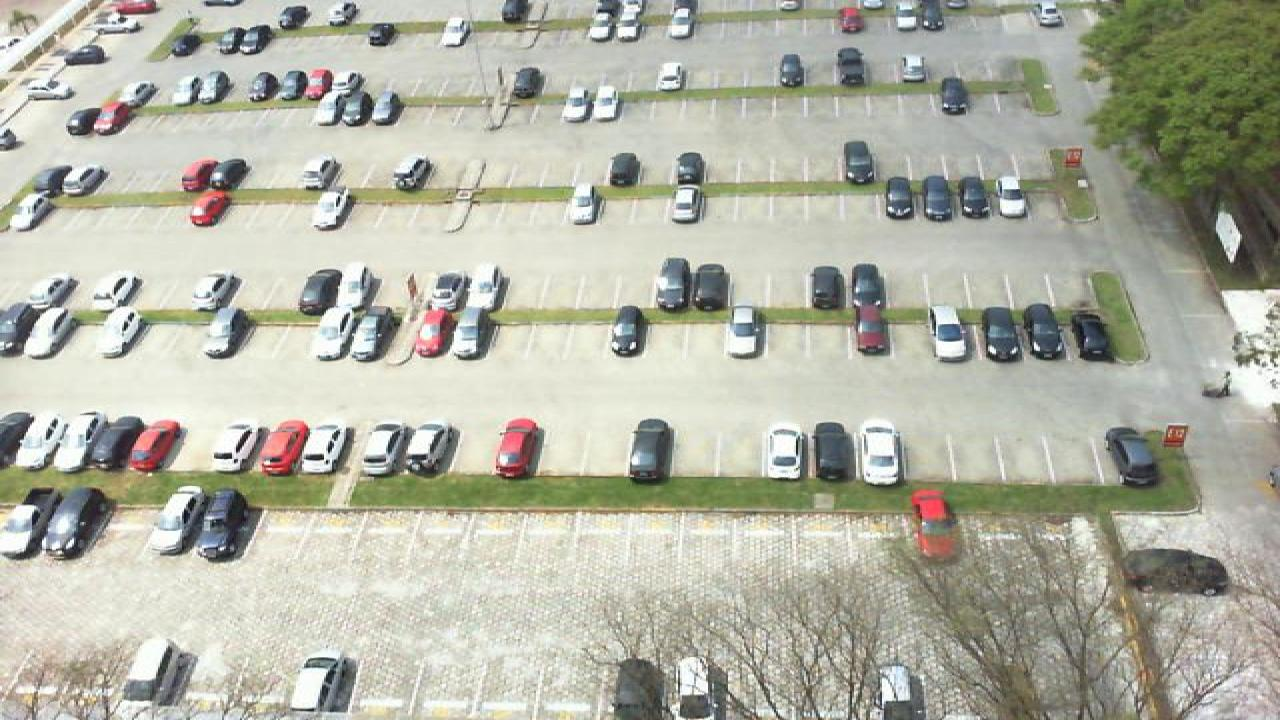Car: (0, 485, 76, 559), (54, 485, 114, 557), (118, 639, 182, 704), (196, 488, 254, 559), (288, 655, 352, 719), (146, 486, 204, 556), (910, 489, 962, 562), (676, 653, 728, 720), (1102, 425, 1160, 485), (610, 658, 666, 720), (492, 417, 546, 480), (398, 422, 458, 478), (626, 416, 676, 483), (124, 420, 186, 474), (86, 415, 144, 471), (300, 421, 360, 475), (46, 411, 98, 472), (256, 420, 312, 476), (210, 422, 270, 474), (20, 305, 76, 359), (926, 304, 978, 362), (92, 307, 148, 360), (360, 423, 414, 477), (200, 305, 254, 359), (874, 664, 926, 720), (810, 420, 856, 483), (310, 305, 360, 361), (858, 423, 902, 485), (1020, 304, 1066, 362), (980, 305, 1026, 362), (344, 307, 392, 361), (764, 426, 810, 480), (722, 305, 766, 360), (652, 255, 694, 312), (406, 306, 450, 359), (426, 266, 474, 314), (296, 268, 344, 316), (610, 304, 652, 358), (0, 304, 42, 358), (448, 309, 492, 360), (1070, 310, 1112, 362), (850, 300, 890, 354), (22, 274, 78, 312), (190, 271, 244, 309), (694, 262, 732, 313), (848, 262, 890, 308), (342, 264, 384, 310), (92, 274, 142, 312), (0, 412, 34, 467), (306, 190, 350, 232), (840, 140, 880, 184), (808, 264, 846, 310), (880, 175, 918, 221), (4, 194, 50, 232), (186, 190, 232, 227), (474, 266, 510, 312), (994, 173, 1030, 219), (918, 176, 954, 222), (564, 185, 604, 226), (392, 154, 436, 191), (298, 156, 342, 192), (956, 176, 990, 222), (328, 89, 370, 126), (30, 162, 74, 197), (666, 186, 706, 224), (212, 156, 252, 194), (178, 158, 220, 194), (58, 165, 106, 196), (92, 98, 132, 134), (608, 151, 644, 189), (366, 90, 404, 126), (834, 46, 868, 86), (560, 85, 594, 125), (18, 73, 68, 100), (198, 68, 234, 104), (674, 150, 708, 186), (938, 78, 970, 116), (510, 65, 544, 100), (778, 52, 810, 88), (592, 86, 622, 124), (168, 72, 202, 105), (62, 42, 110, 65), (64, 107, 102, 136), (302, 68, 334, 102), (652, 62, 688, 92), (438, 17, 472, 48), (662, 8, 696, 39), (244, 72, 278, 102), (272, 69, 304, 100), (916, 0, 946, 33), (238, 25, 272, 54), (898, 53, 930, 83), (586, 12, 618, 42), (124, 80, 158, 107), (206, 30, 240, 57), (322, 0, 356, 27), (364, 22, 398, 48), (108, 0, 160, 17), (620, 11, 648, 42), (204, 15, 240, 37), (836, 6, 864, 34), (1034, 0, 1064, 26), (500, 0, 532, 24), (894, 0, 918, 28), (278, 4, 310, 23)
